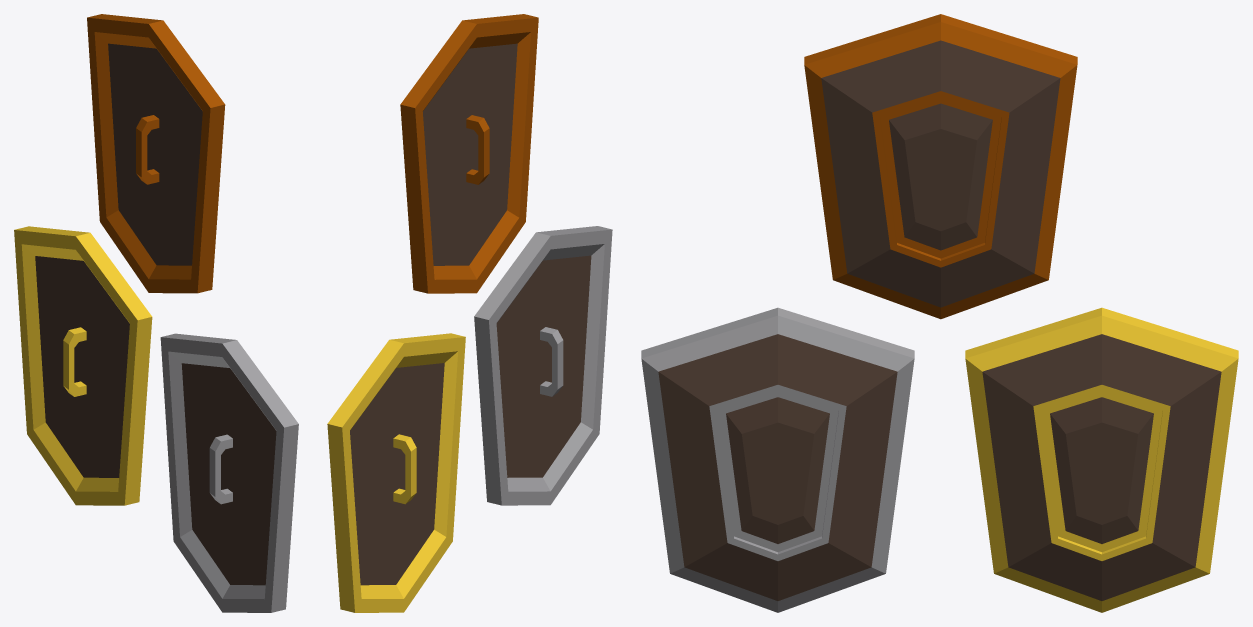
The model's file is shield_iron_bronze_gold.fbx.
3 views of the same model, side by side, from view 1: azimuth 30°, elevation 25°; view 2: azimuth 150°, elevation 25°; view 3: azimuth 270°, elevation 25° (orthographic). The views are drawn at different scales.
Parts seen in each view (by area): view 1: Plane.002, Plane.001, Plane; view 2: Plane, Plane.002, Plane.001; view 3: Plane, Plane.001, Plane.002.
Boxes of the visible parts, x1,y1,x2,y2 form: Plane.002: [87, 14, 225, 293]; Plane.001: [14, 226, 152, 505]; Plane: [160, 333, 298, 612]; Plane: [474, 226, 612, 505]; Plane.002: [400, 14, 538, 293]; Plane.001: [327, 333, 465, 612]; Plane: [641, 307, 914, 612]; Plane.001: [965, 307, 1238, 612]; Plane.002: [804, 14, 1077, 319].
Bounding box in the file's own units: 49.27 × 604 × 553.
